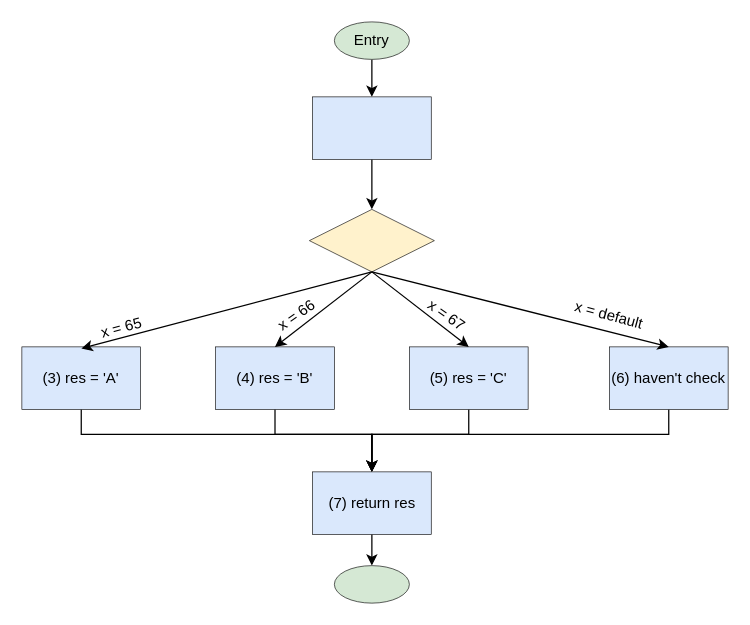
Image size: 750x625. Some labels were removed from this diagram. Each missing label, with the box of its shape:
(0) string foo(int x): (312, 96, 431, 159)
(1) x: (308, 208, 434, 272)
end: (334, 565, 409, 603)
